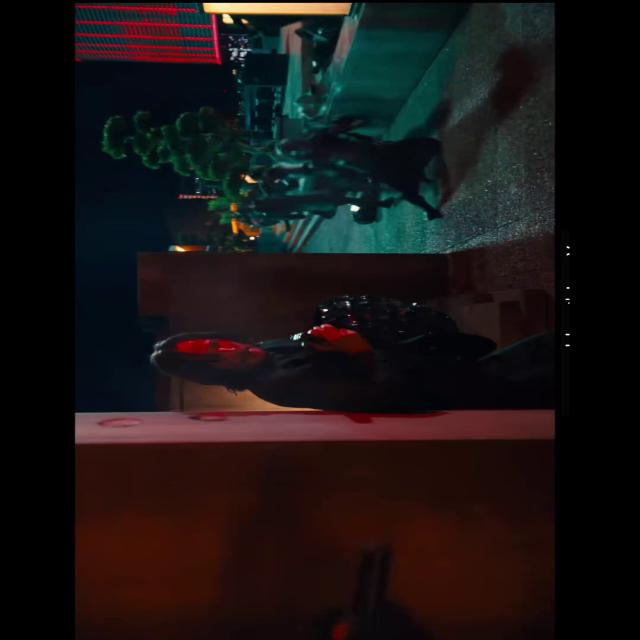weapons: (274, 318, 376, 356)
